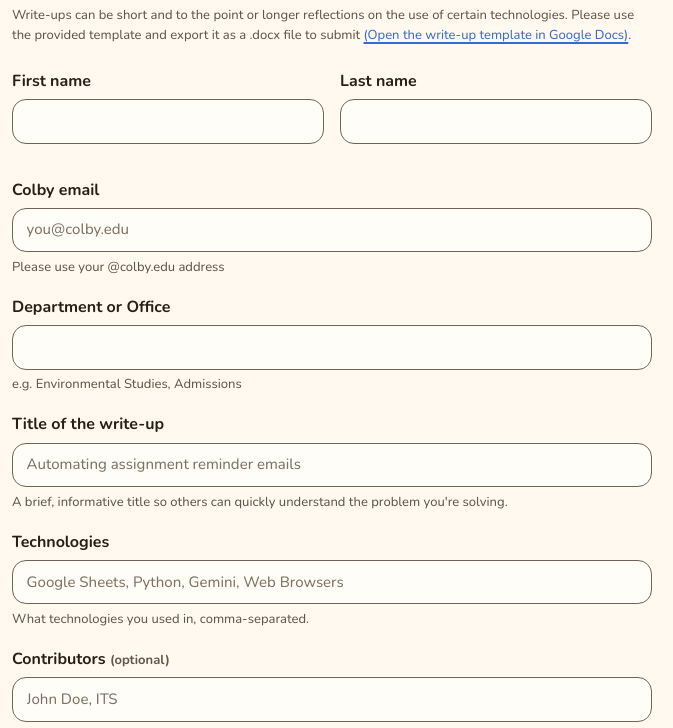
Test: SubmissionForm › keeps what someone typed while a validation message is appearing
In the field labelled "First name": (168, 122) [12,100,324,144], type "Marie"
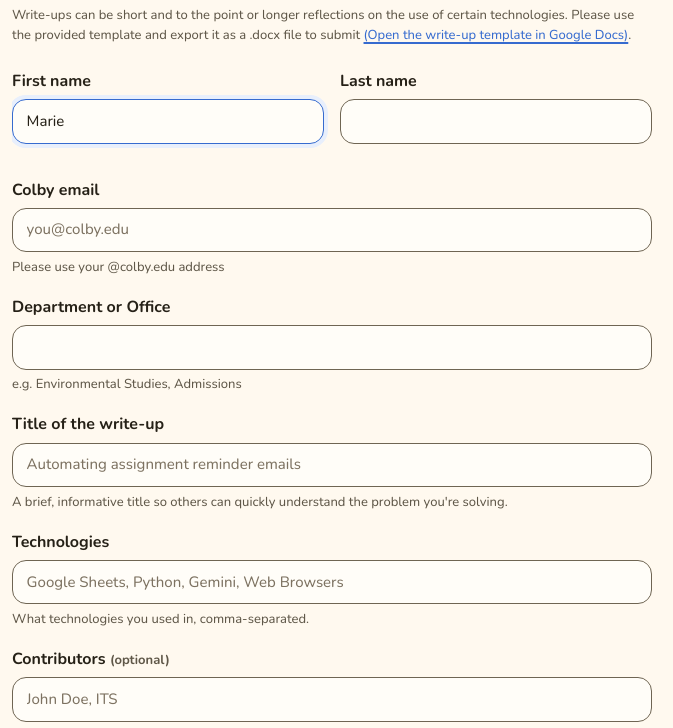
In the field labelled "Last name": (496, 122) [340,100,652,144], type "Dubois"
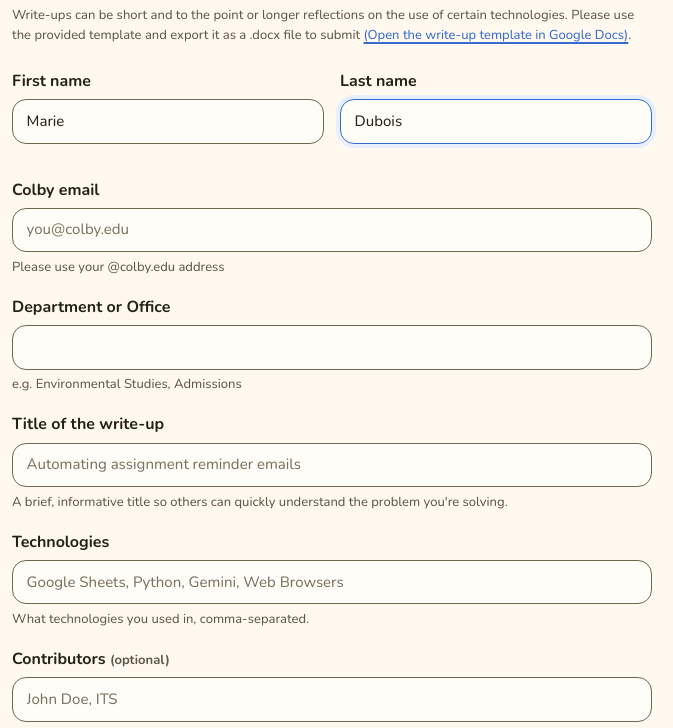
In the field labelled "Colby email": (332, 230) [12,208,652,252], type "marie@gmail.com"
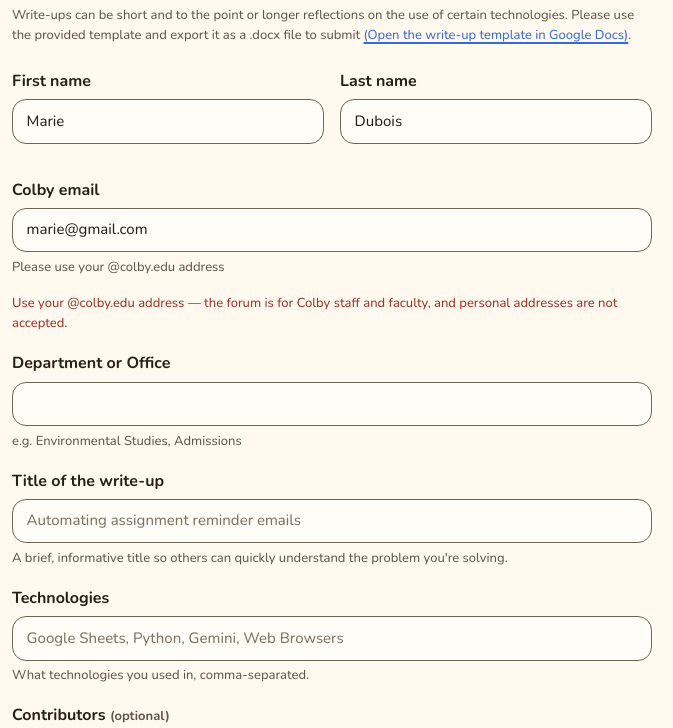
Result: the text "Use your @colby.edu address" is shown at [12,294,617,332]
